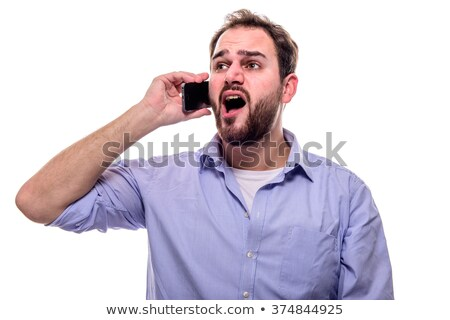phone: (166, 68, 212, 116)
talk: (148, 45, 273, 143)
